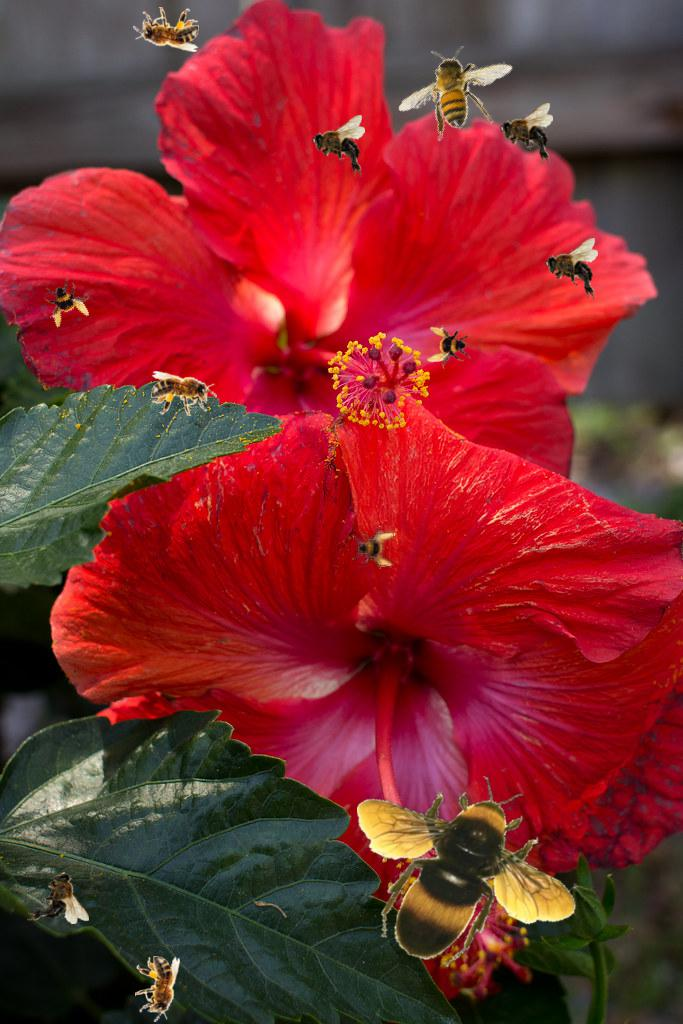Bee: (357, 776, 577, 967), (386, 18, 531, 164), (37, 272, 97, 332), (545, 238, 598, 300), (312, 115, 365, 177), (27, 871, 89, 924), (500, 103, 553, 165), (135, 956, 180, 1022), (151, 371, 217, 416), (133, 7, 199, 52), (352, 525, 396, 569), (427, 325, 471, 369)
